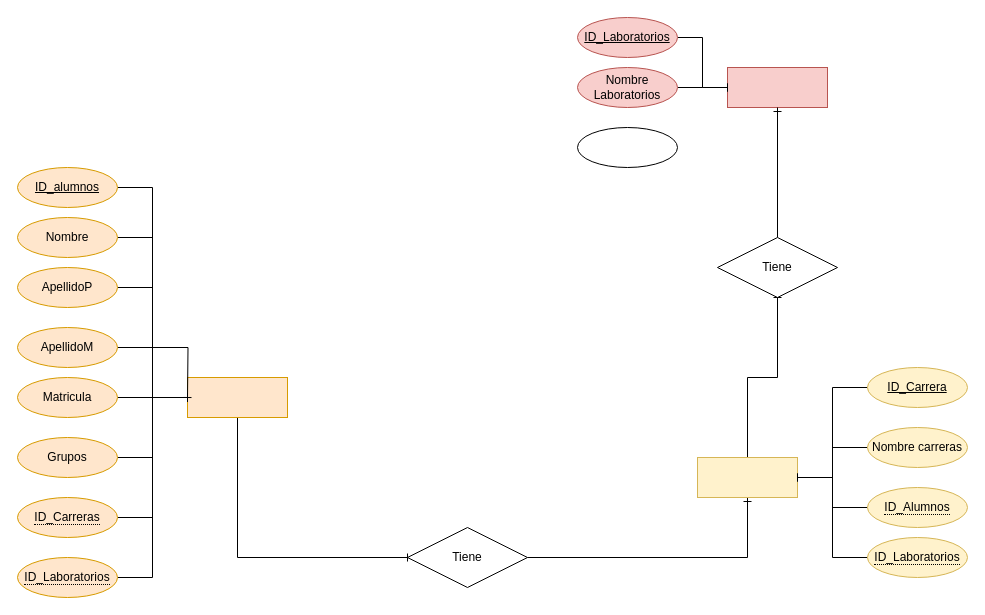
Image size: 985x615. Some labels were removed from this diagram. The shapes that lost their labels are listed below. From the top down, each one's centre as x and y in pixels, then its label:
At pixel 777 87: "Laboratorios".
At pixel 627 147: "Atribucióin".
At pixel 237 397: "Alumnos".
At pixel 747 477: "Carreras".
